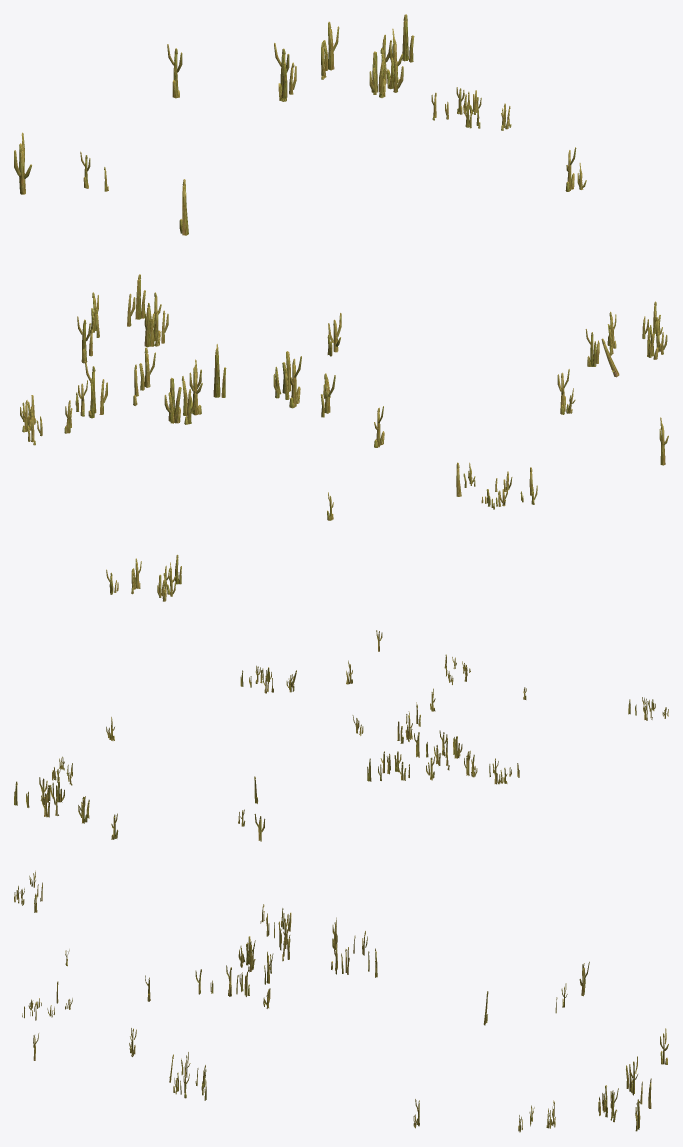
The model's file is S_Plant_Yellow002_A.FBX.
The picture shows the model from 3 angles, top to bottom: view 1: azimuth 30°, elevation 25°; view 2: azimuth 150°, elevation 25°; view 3: azimuth 270°, elevation 25°; orthographic projection. The views are drawn at different scales.
Visible parts, largest first — view 1: S_Plant_Yellow002_004, S_Plant_Yellow002_002, S_Plant_Yellow002_005, S_Plant_Yellow002_006, S_Plant_Yellow002_007, S_Plant_Yellow002_001, S_Plant_Yellow002_009, S_Plant_Yellow002_003; view 2: S_Plant_Yellow002_004, S_Plant_Yellow002_002, S_Plant_Yellow002_005, S_Plant_Yellow002_007, S_Plant_Yellow002_006, S_Plant_Yellow002_001; view 3: S_Plant_Yellow002_004, S_Plant_Yellow002_002, S_Plant_Yellow002_005, S_Plant_Yellow002_006, S_Plant_Yellow002_007.
Boxes of the visible parts, x1=… form: S_Plant_Yellow002_004: x1=274, y1=14, x2=414, y2=101; S_Plant_Yellow002_002: x1=85, y1=344, x2=226, y2=424; S_Plant_Yellow002_005: x1=77, y1=274, x2=168, y2=363; S_Plant_Yellow002_006: x1=273, y1=313, x2=341, y2=417; S_Plant_Yellow002_007: x1=585, y1=301, x2=667, y2=366; S_Plant_Yellow002_001: x1=20, y1=380, x2=87, y2=445; S_Plant_Yellow002_009: x1=106, y1=554, x2=181, y2=601; S_Plant_Yellow002_003: x1=431, y1=87, x2=511, y2=130; S_Plant_Yellow002_004: x1=14, y1=777, x2=89, y2=823; S_Plant_Yellow002_002: x1=414, y1=730, x2=474, y2=775; S_Plant_Yellow002_005: x1=367, y1=751, x2=434, y2=781; S_Plant_Yellow002_007: x1=240, y1=665, x2=294, y2=693; S_Plant_Yellow002_006: x1=352, y1=702, x2=420, y2=743; S_Plant_Yellow002_001: x1=471, y1=758, x2=519, y2=784; S_Plant_Yellow002_004: x1=598, y1=1056, x2=651, y2=1131; S_Plant_Yellow002_002: x1=238, y1=914, x2=290, y2=984; S_Plant_Yellow002_005: x1=331, y1=917, x2=377, y2=977; S_Plant_Yellow002_006: x1=195, y1=965, x2=270, y2=1008; S_Plant_Yellow002_007: x1=173, y1=1052, x2=206, y2=1100.
Bounding box in the file's own units: 12414 × 1003 × 14150.
